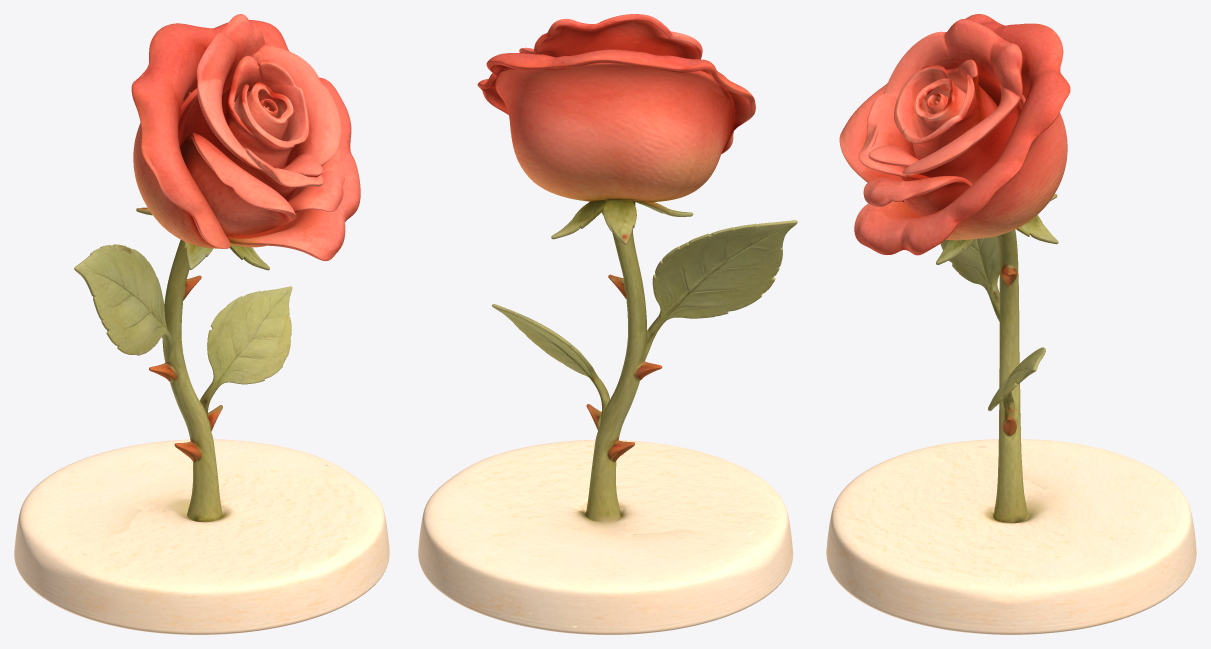
The model's file is rose.glb.
3 views of the same model, side by side, from view 1: azimuth 30°, elevation 25°; view 2: azimuth 150°, elevation 25°; view 3: azimuth 270°, elevation 25° (orthographic).
Parts seen in each view (by area): view 1: rose_visual; view 2: rose_visual; view 3: rose_visual.
Part boxes in pixels (<box>): rose_visual: <box>14,14,389,634</box>; rose_visual: <box>418,14,797,634</box>; rose_visual: <box>826,14,1196,634</box>.
Bounding box in the file's own units: 0.6368 × 1 × 0.6281.
1 material, 1 textured.
